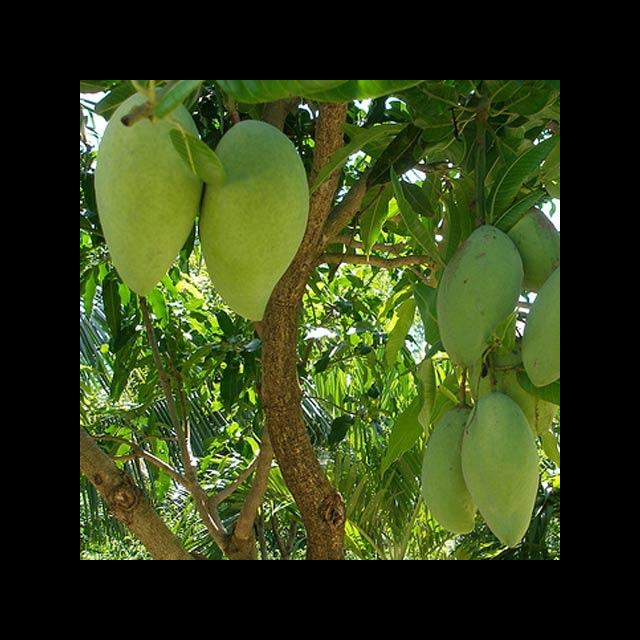xoai: (202, 120, 310, 318), (95, 92, 200, 292), (436, 225, 523, 371), (462, 394, 537, 549), (422, 401, 480, 536)
